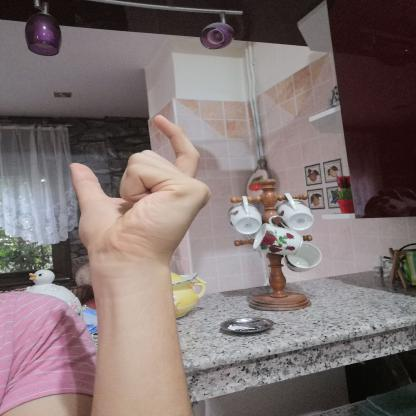NOON: (53, 105, 228, 286)
